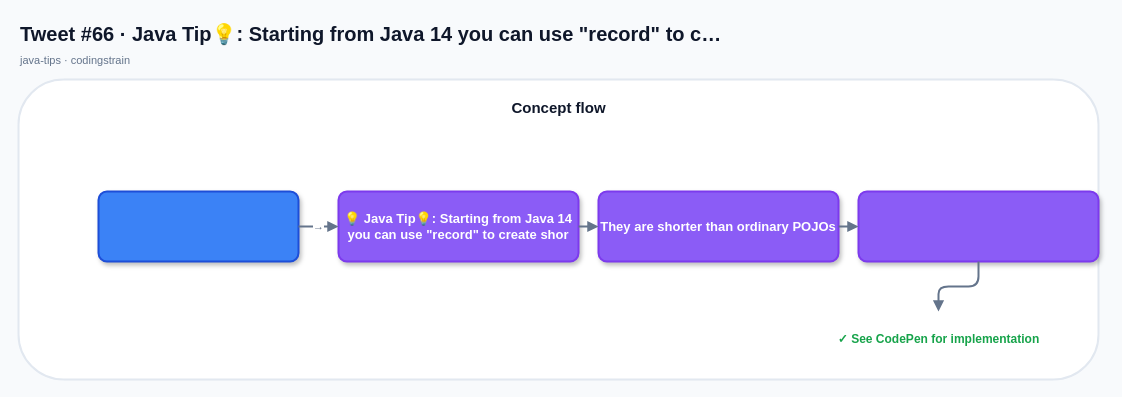
The diagram is 1122 pixels wide and 397 high, and some of its shapes have lost their labels. Each missing label, with the centre of its shape:
"Problem / context" goes at point (199, 227).
"They have built-in equals(), hashCode(), toString()" goes at point (979, 227).
